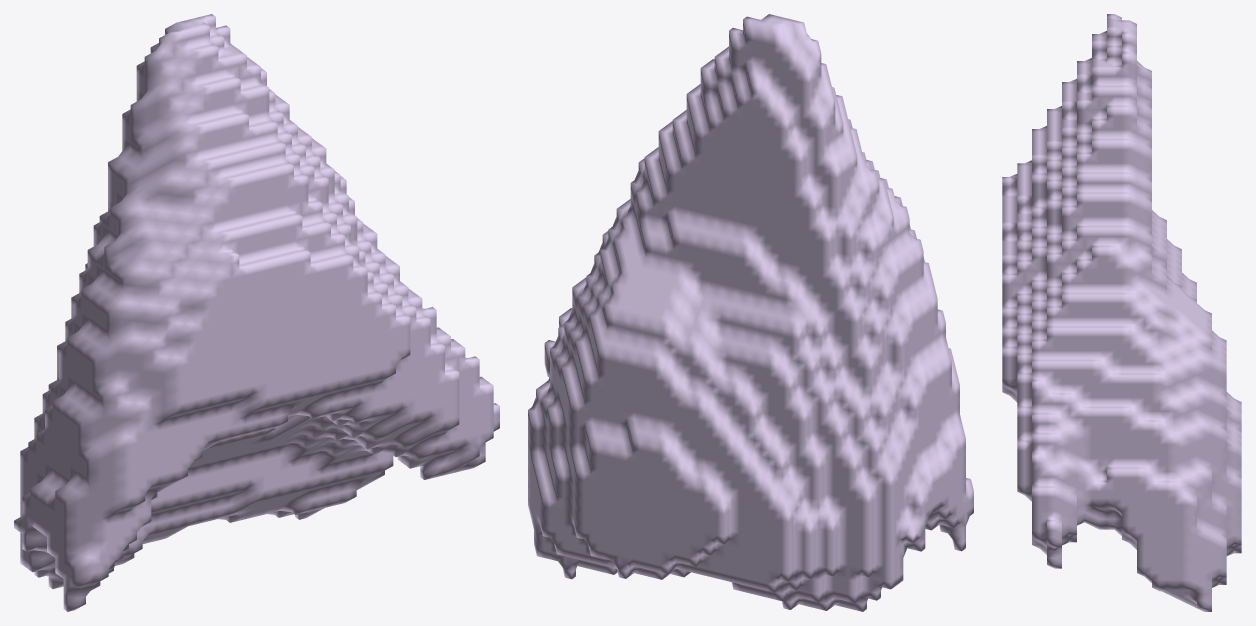
Rendered from region-4.glb.
The picture shows the model from 3 angles, left to right: view 1: azimuth 30°, elevation 25°; view 2: azimuth 150°, elevation 25°; view 3: azimuth 270°, elevation 25°; orthographic projection. The views are drawn at different scales.
Parts seen in each view (by area): view 1: digimouse-volume:4; view 2: digimouse-volume:4; view 3: digimouse-volume:4.
Part boxes in pixels (box(x1,y1,x2,y2)): digimouse-volume:4: box(14, 14, 499, 611); digimouse-volume:4: box(528, 14, 973, 611); digimouse-volume:4: box(1002, 14, 1241, 611).
Bounding box in the file's own units: 0.006 × 0.0076 × 0.0032.
